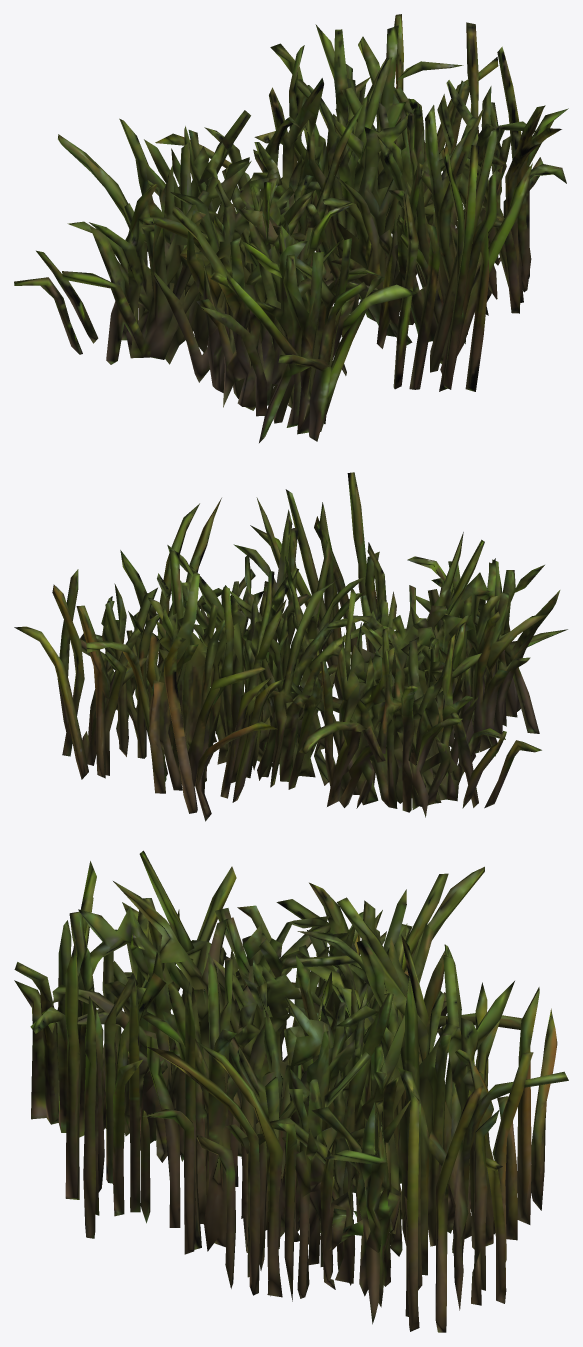
The model's file is pastoL 1.fbx.
3 views of the same model, one above another, from view 1: azimuth 30°, elevation 25°; view 2: azimuth 150°, elevation 25°; view 3: azimuth 270°, elevation 25° (orthographic). The views are drawn at different scales.
Parts seen in each view (by area): view 1: Mesh1.0; view 2: Mesh1.0; view 3: Mesh1.0.
Boxes of the visible parts, x1,y1,x2,y2 form: Mesh1.0: [14, 14, 568, 442]; Mesh1.0: [14, 472, 567, 821]; Mesh1.0: [14, 850, 568, 1332].
Size of the model in its own units: 200 by 89.82 by 150.
Materials: 1 (1 with a texture image).
